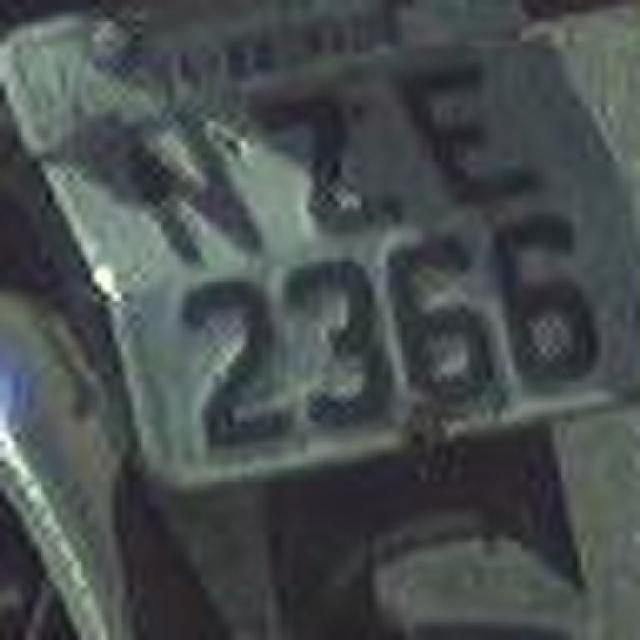2: (135, 260, 340, 468)
3: (248, 224, 428, 448)
5: (360, 208, 512, 420)
6: (472, 192, 616, 400)
N: (120, 96, 268, 292)
P: (384, 44, 536, 216)
